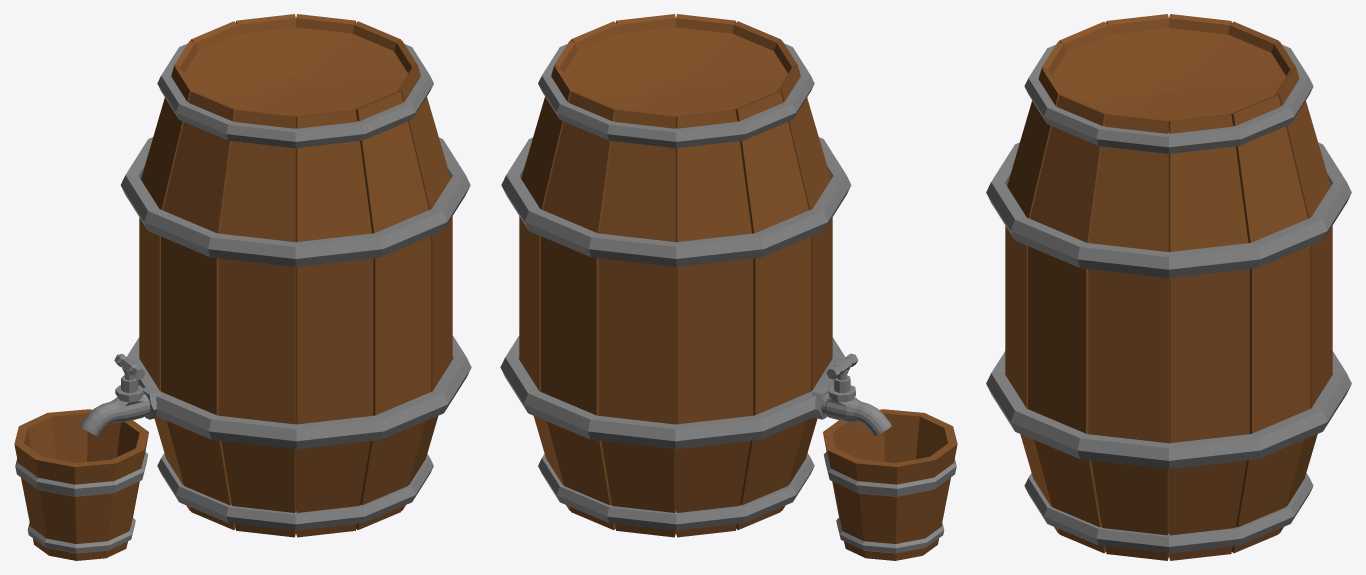
File: WaterBarrel.fbx
3 views of the same model, side by side, from view 1: azimuth 30°, elevation 25°; view 2: azimuth 150°, elevation 25°; view 3: azimuth 270°, elevation 25° (orthographic). The views are drawn at different scales.
Parts seen in each view (by area): view 1: Circle; view 2: Circle; view 3: Circle.
Part boxes in pixels (bbox=[...]): Circle: bbox=[14, 14, 471, 560]; Circle: bbox=[500, 14, 957, 560]; Circle: bbox=[986, 14, 1351, 560].
Bounding box in the file's own units: 166 × 158 × 119.
